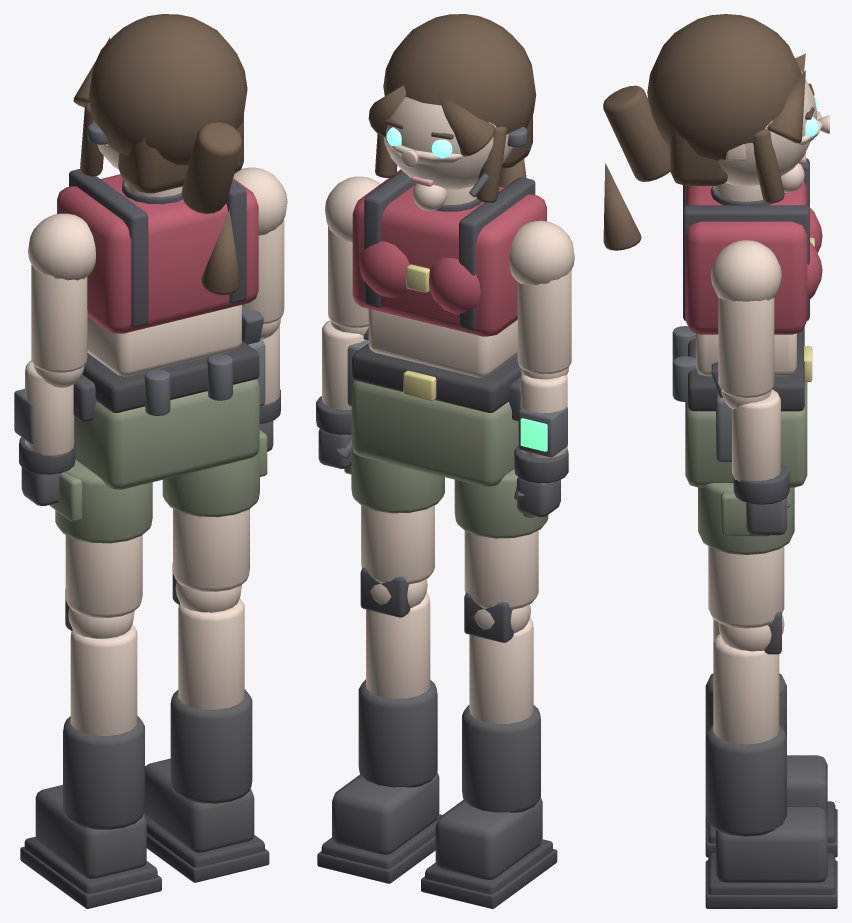
File: roxy_vance.glb
The picture shows the model from 3 angles, left to right: view 1: azimuth 30°, elevation 25°; view 2: azimuth 150°, elevation 25°; view 3: azimuth 270°, elevation 25°; orthographic projection. The views are drawn at different scales.
Parts seen in each view (by area): view 1: Torso, Leg_L, Leg_R, Head, Arm_L, Arm_R; view 2: Torso, Leg_L, Leg_R, Head, Arm_L, Arm_R; view 3: Leg_R, Head, Torso, Arm_R, Leg_L.
Part boxes in pixels (box(x1,y1,x2,y2)): Torso: box(57, 169, 265, 489); Leg_L: box(20, 460, 161, 908); Leg_R: box(143, 430, 269, 882); Head: box(73, 14, 247, 294); Arm_L: box(14, 213, 95, 505); Arm_R: box(233, 167, 287, 451); Torso: box(347, 169, 546, 486); Leg_L: box(421, 469, 557, 908); Leg_R: box(317, 448, 444, 883); Head: box(368, 14, 536, 211); Arm_L: box(509, 220, 574, 517); Arm_R: box(316, 176, 379, 468); Leg_R: box(698, 483, 837, 908); Head: box(603, 14, 829, 250); Torso: box(672, 158, 822, 487); Arm_R: box(711, 240, 789, 535); Leg_L: box(705, 619, 837, 857).
Bounding box in the file's own units: 0.57 × 1.83 × 0.4618.
